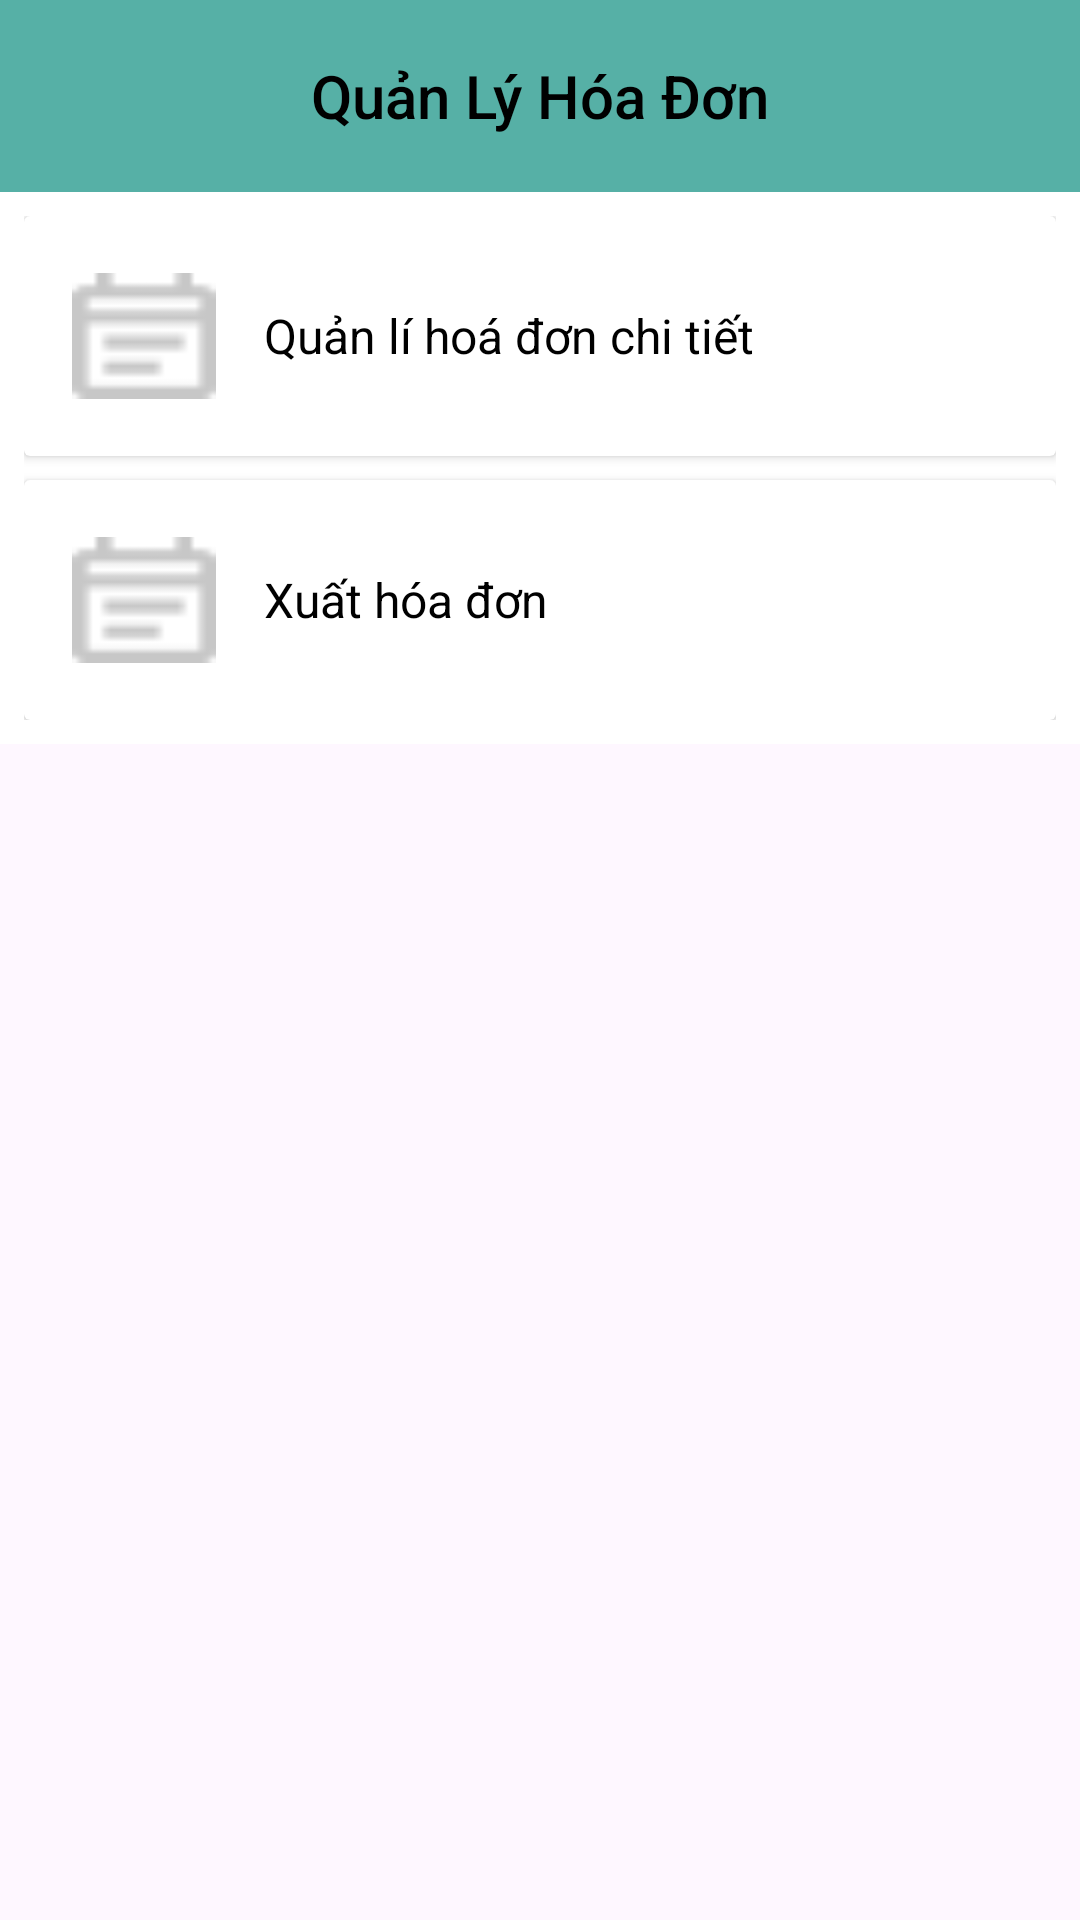

Named icons in this screenshot (1080*1920) and their bounding boxes, (x1, y1, x2, y2):
Calendar Icon: (72, 273, 216, 399), (72, 537, 216, 663)
